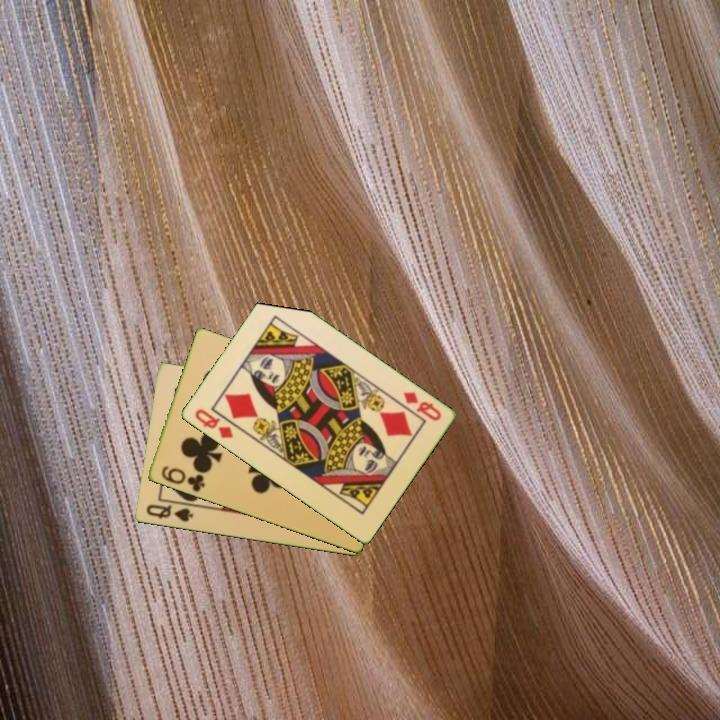6c: (157, 462, 208, 495)
Qd: (191, 405, 236, 441), (399, 388, 444, 424)
Qs: (142, 501, 196, 525)
